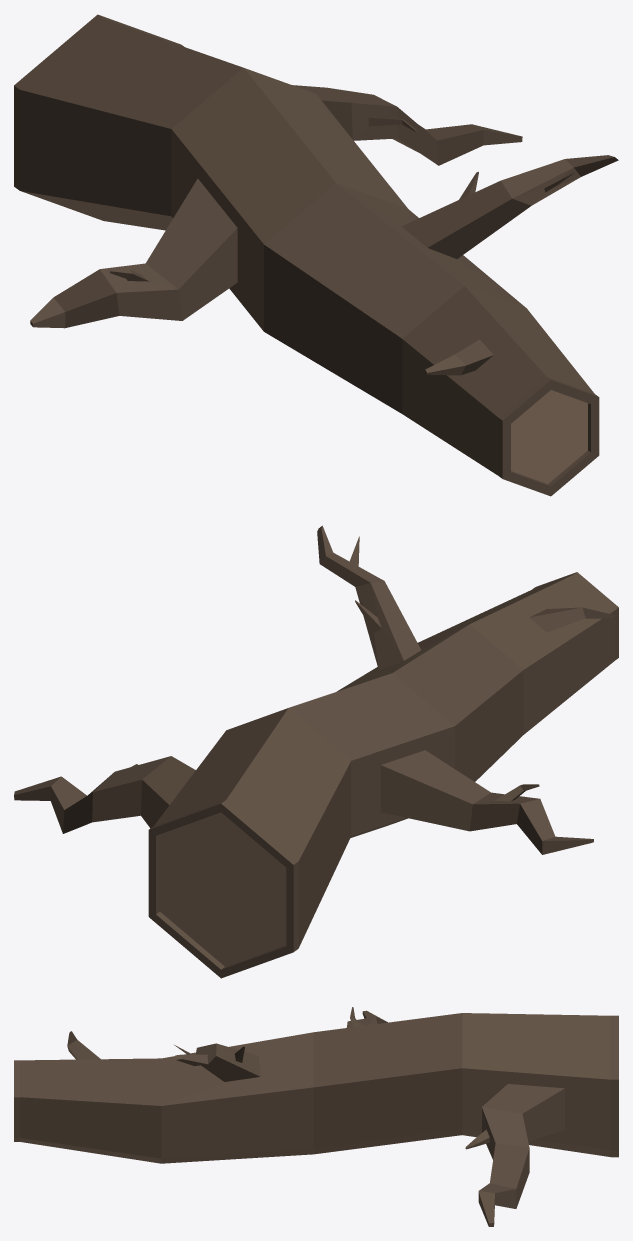
File: fallenTree01.gltf
3 renders of one model, top to bottom at view 1: azimuth 30°, elevation 25°; view 2: azimuth 150°, elevation 25°; view 3: azimuth 270°, elevation 25°, orthographic. The views are drawn at different scales.
Parts seen in each view (by area): view 1: Cylinder; view 2: Cylinder; view 3: Cylinder.
Boxes of the visible parts, x1,y1,x2,y2 form: Cylinder: [14, 14, 618, 496]; Cylinder: [14, 525, 618, 978]; Cylinder: [14, 1007, 618, 1226].
Size of the model in its own units: 6.95 by 2.78 by 8.98.
Materials: 1 (1 with a texture image).
